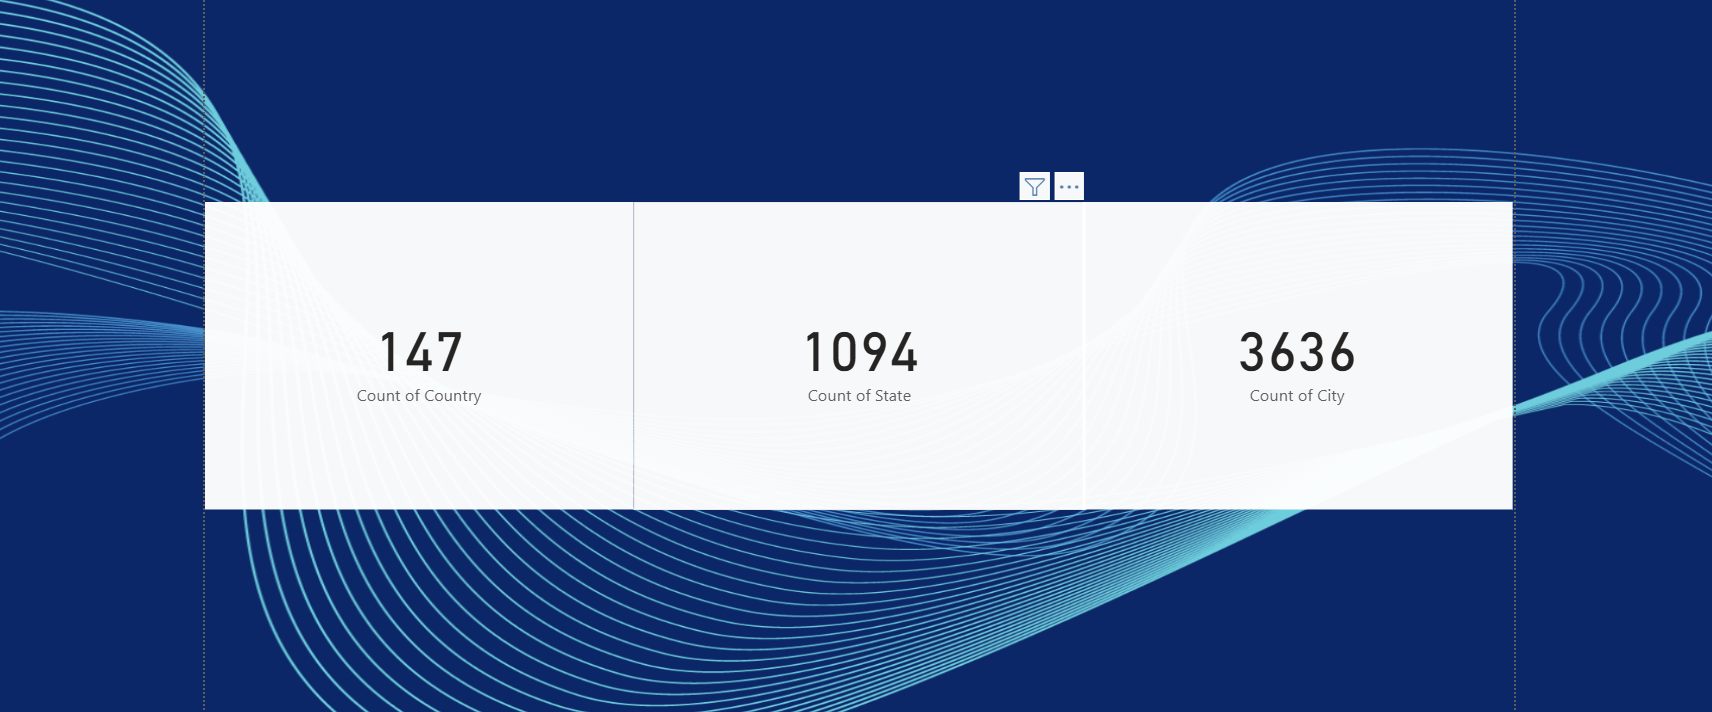

What the dashboard file says about the page in this screenshot:
{"tool":"powerbi","page":{"name":"Page 2","canvas":[1280,720],"ordinal":1},"visuals":[{"type":"card","fields":{"Values":["Count(Orders.State)"]},"box":[419.3,210.2,441.9,300.7],"z":0},{"type":"card","fields":{"Values":["Count(Orders.Country)"]},"box":[0,210.2,419.3,300.7],"z":1000},{"type":"card","fields":{"Values":["Count(Orders.City)"]},"box":[859,210.2,420.5,300.7],"z":2000}]}

Visuals, with their boxes on the page's 1280x720 design canvas (x1, y1, x2, y2). These are canvas units, not pixel positions in the 1712x712 screenshot, which may show the page scaled, cropped or inside an application window:
card - Count(Orders.State): {"left": 419, "top": 210, "right": 861, "bottom": 511}
card - Count(Orders.Country): {"left": 0, "top": 210, "right": 419, "bottom": 511}
card - Count(Orders.City): {"left": 859, "top": 210, "right": 1280, "bottom": 511}
